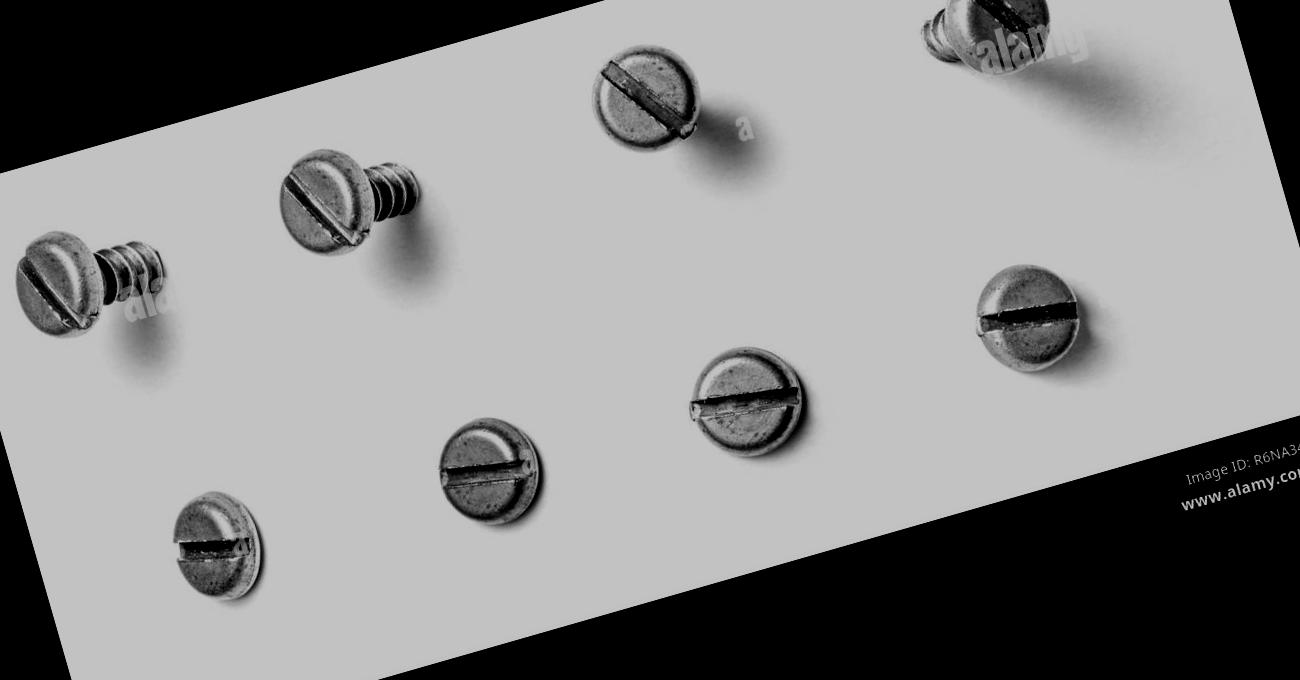screw: (676, 334, 822, 474), (961, 253, 1090, 390), (262, 135, 389, 270), (429, 401, 549, 542), (582, 35, 706, 164), (932, 0, 1062, 87)
